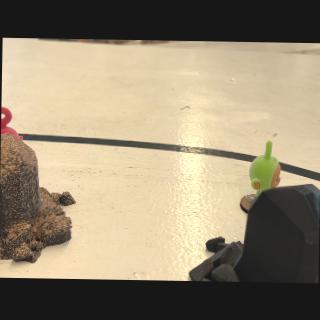teletubby: (249, 141, 281, 196), (0, 107, 23, 140)
